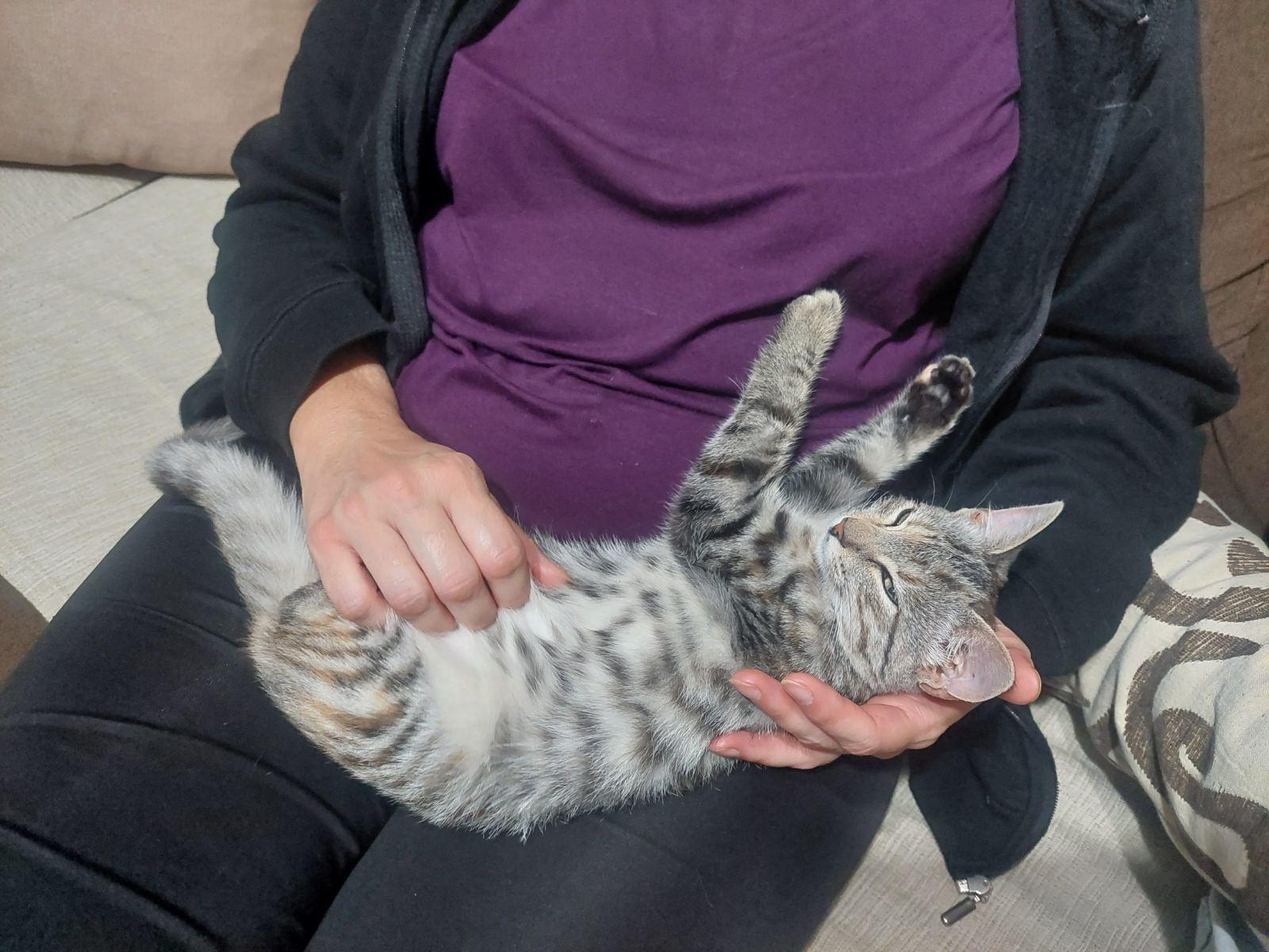macka: (148, 285, 1069, 833)
